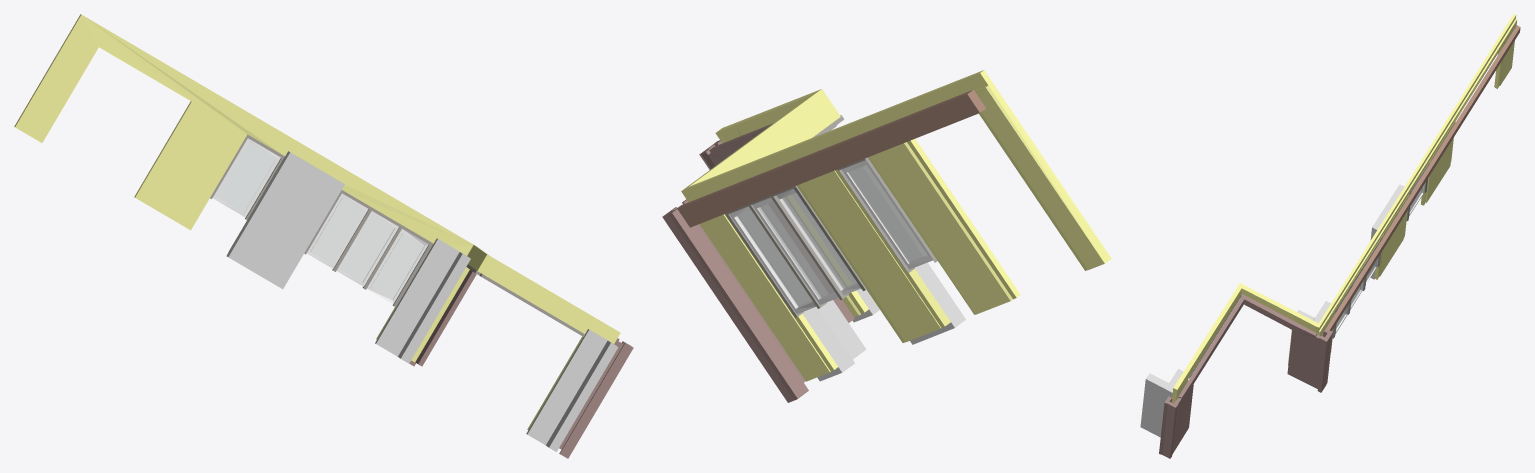
3 views of the same model, side by side, from view 1: azimuth 30°, elevation 25°; view 2: azimuth 150°, elevation 25°; view 3: azimuth 270°, elevation 25° (orthographic). The views are drawn at different scales.
Visible parts, largest first — view 1: mesh; view 2: mesh; view 3: mesh.
Part boxes in pixels (x1,y1,x2,y2): mesh: (14,14,633,458); mesh: (662,70,1111,402); mesh: (1140,14,1520,458).
Bounding box in the file's own units: 10.94 × 9.05 × 9.67.
